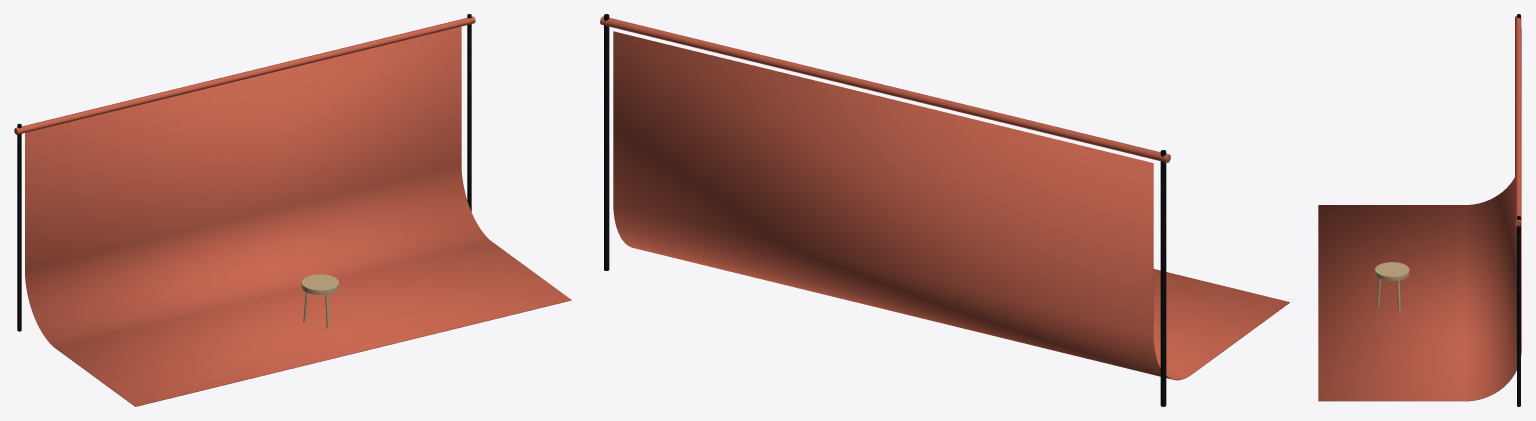
File: photo-cyclorama-v1.glb
3 views of the same model, side by side, from view 1: azimuth 30°, elevation 25°; view 2: azimuth 150°, elevation 25°; view 3: azimuth 270°, elevation 25° (orthographic). The views are drawn at different scales.
Parts seen in each view (by area): view 1: Coral cyclorama continuous sweep; view 2: Coral cyclorama continuous sweep; view 3: Coral cyclorama continuous sweep.
Part boxes in pixels (x1,y1,x2,y2): Coral cyclorama continuous sweep: (14,14,571,406); Coral cyclorama continuous sweep: (600,14,1289,406); Coral cyclorama continuous sweep: (1318,14,1521,406).
Bounding box in the file's own units: 6.72 × 2.89 × 2.81.
3 materials, 3 textured.
